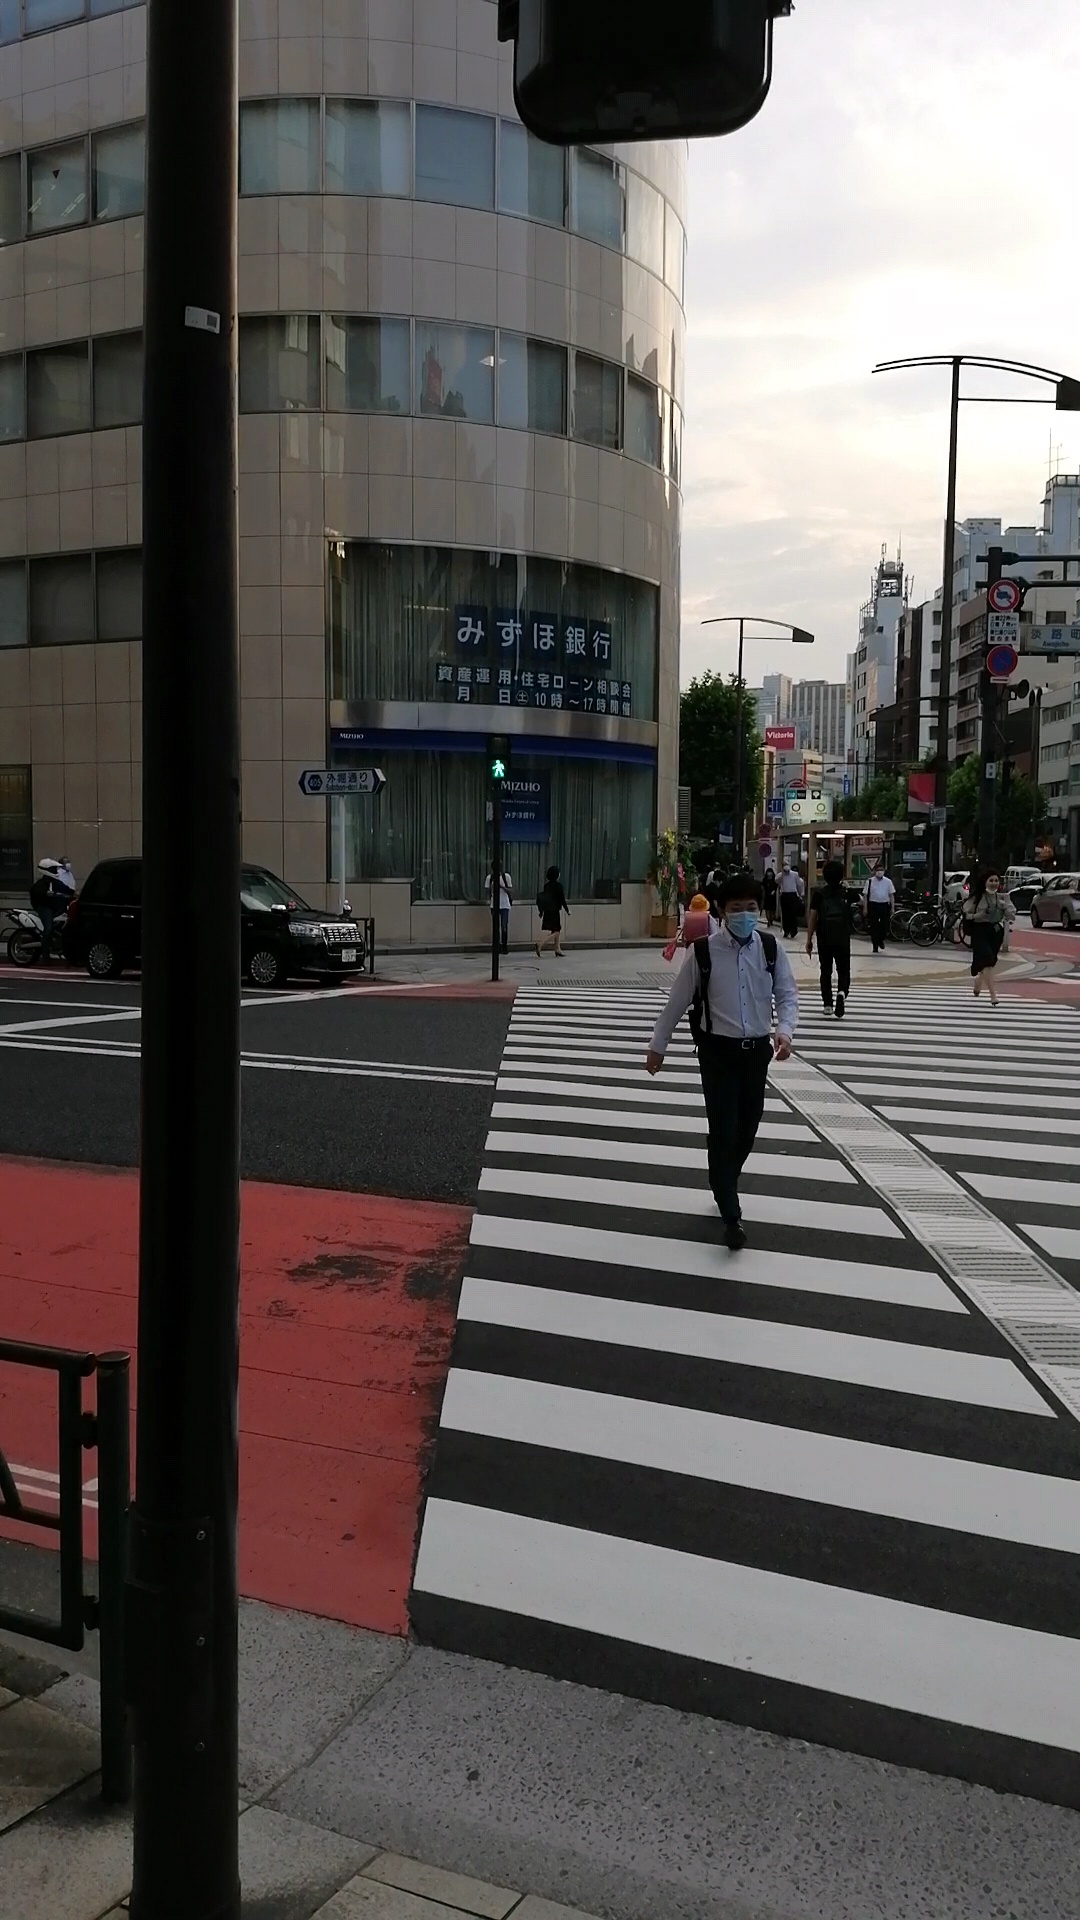green: (487, 736, 510, 782)
